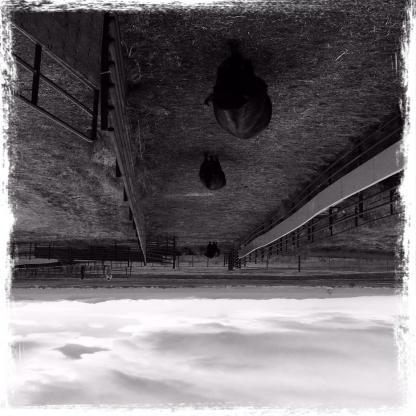boar: (204, 52, 272, 140), (199, 154, 226, 191), (201, 241, 222, 258)
